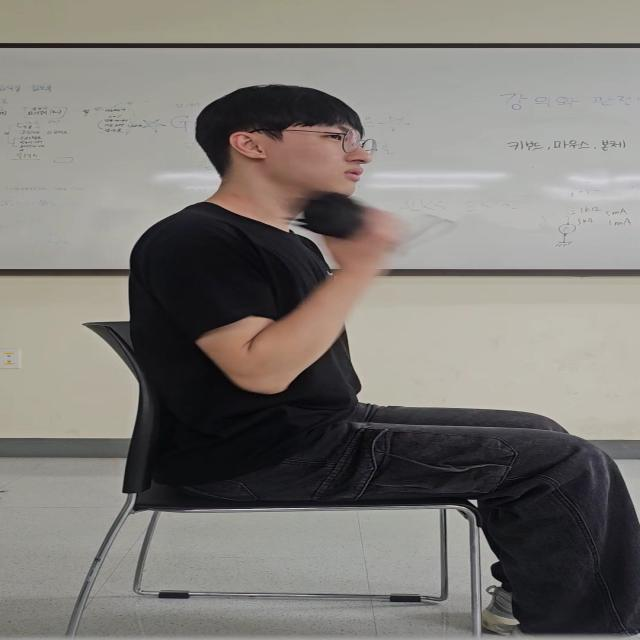curl: (147, 230, 343, 392)
